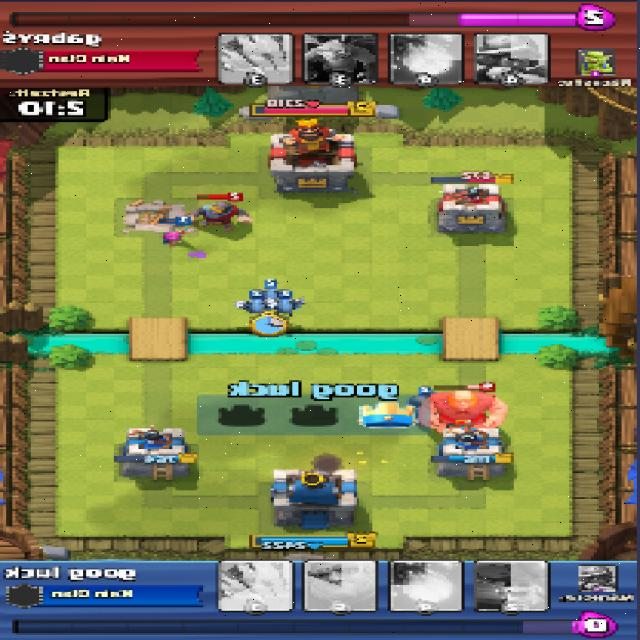Enemy-Giant: (417, 388, 508, 431)
Enemy-Knight: (188, 201, 253, 228)
Player-Archer: (160, 229, 186, 246)
Player-Knight: (408, 390, 440, 416)
Player-Minion: (238, 296, 270, 313), (273, 298, 304, 314), (260, 285, 281, 304)
